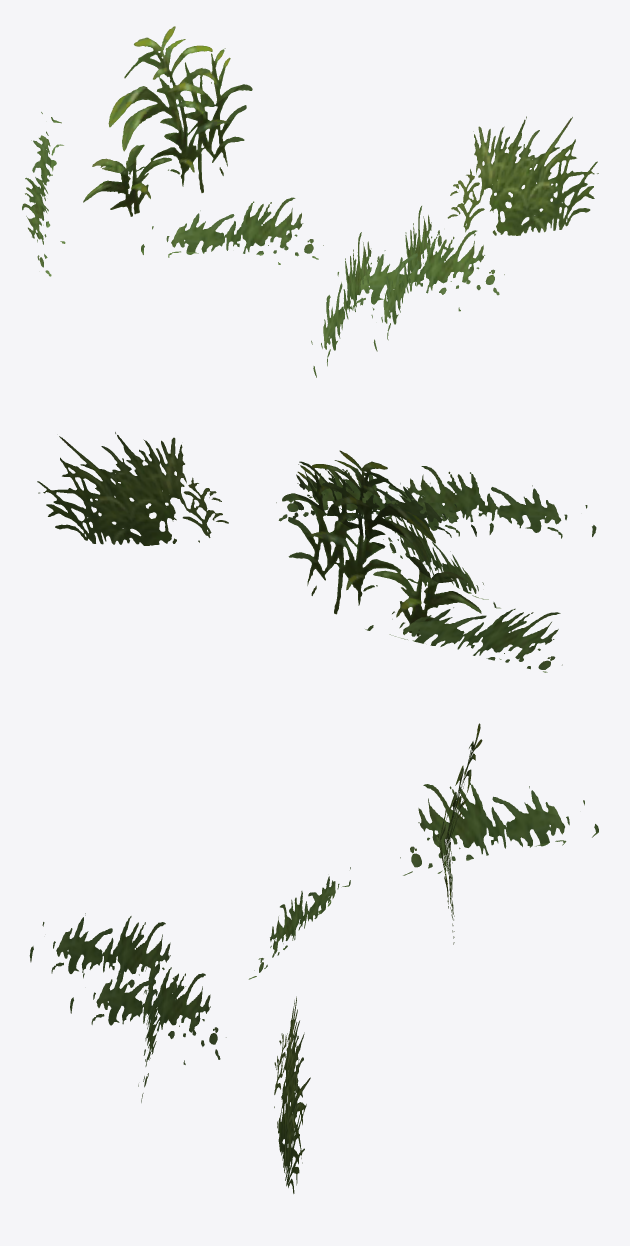
3 views of the same model, one above another, from view 1: azimuth 30°, elevation 25°; view 2: azimuth 150°, elevation 25°; view 3: azimuth 270°, elevation 25° (orthographic). The views are drawn at different scales.
Parts seen in each view (by area): view 1: Mesh_31; view 2: Mesh_31; view 3: Mesh_31.
Part boxes in pixels (bbox=[...]): Mesh_31: bbox=[22, 26, 598, 377]; Mesh_31: bbox=[37, 432, 596, 672]; Mesh_31: bbox=[29, 723, 598, 1193].
Size of the model in its own units: 2.28 by 0.9019 by 1.72.
